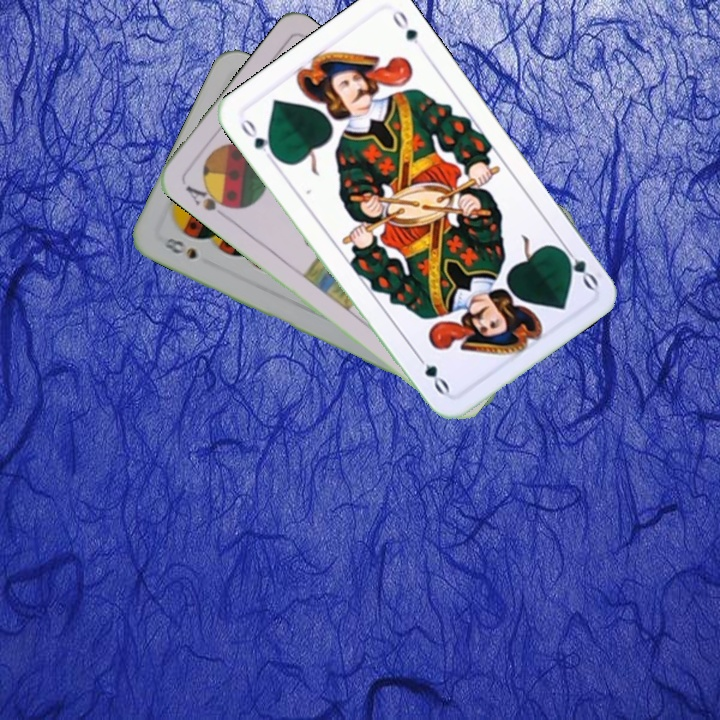GO: (554, 239, 601, 292), (236, 114, 281, 166)
S8: (155, 233, 200, 262)
SA: (181, 180, 236, 221)
